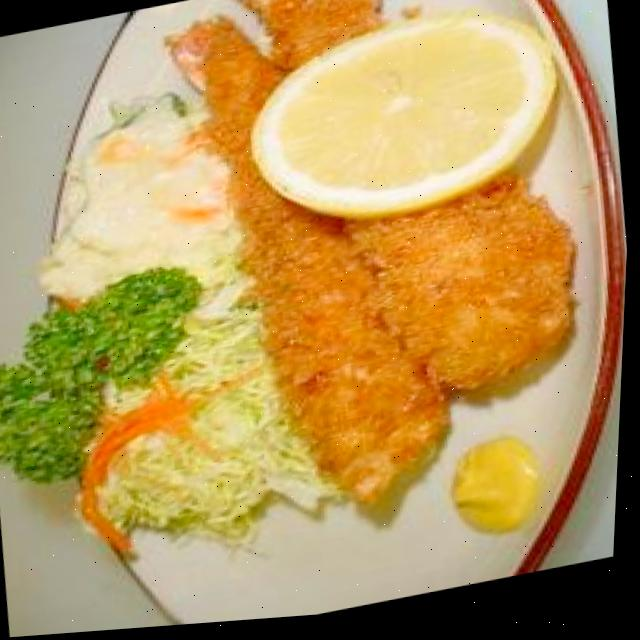炸货点心: (142, 0, 640, 548)
熟制海鲜: (142, 0, 640, 548)
